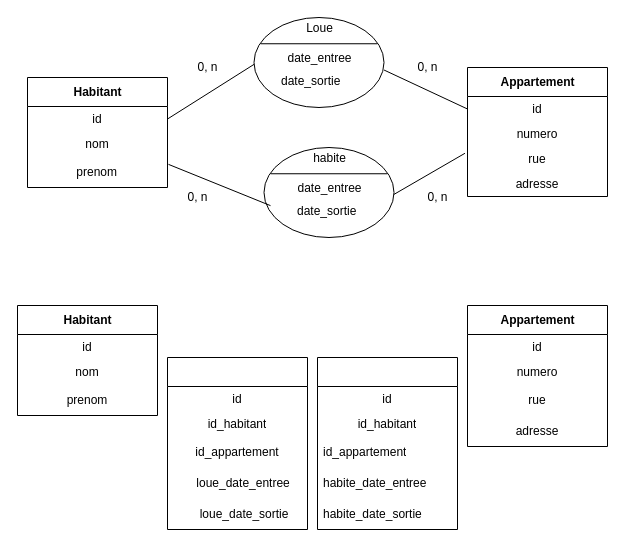
Some shapes in this 625 by 547 pixel diagram are drawn without their labels. The shapes that lost their labels are listed below. From the top down, each one's box as (x1, y1, x2, y2) in pixels, then its label:
(166, 356, 308, 530): Location_appartement
(316, 356, 458, 530): Habite_appartement
